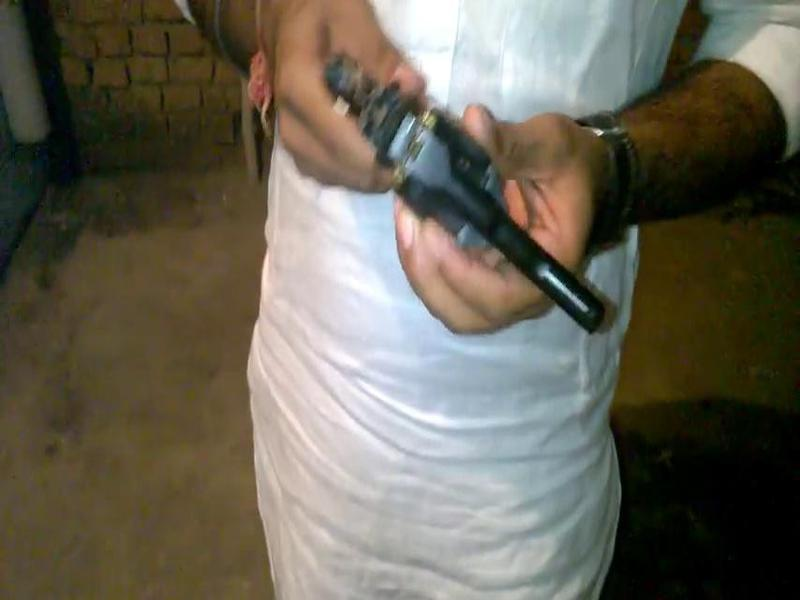Revolver: (334, 72, 614, 333)
